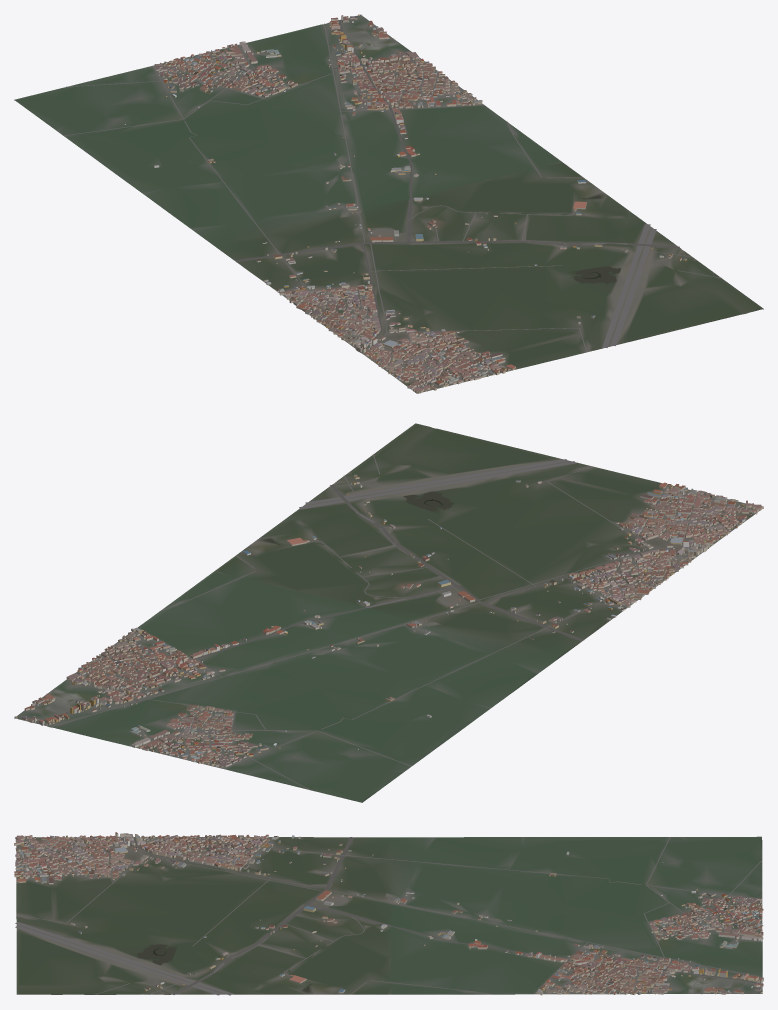
3 renders of one model, top to bottom at view 1: azimuth 30°, elevation 25°; view 2: azimuth 150°, elevation 25°; view 3: azimuth 270°, elevation 25°, orthographic. The views are drawn at different scales.
Parts seen in each view (by area): view 1: ground, buildings, roads; view 2: ground, buildings, roads; view 3: ground, buildings, roads, water.
Part boxes in pixels (left/top/right/bottom): ground: left=14, top=15, right=763, bottom=393; buildings: left=124, top=14, right=686, bottom=393; roads: left=64, top=17, right=721, bottom=390; ground: left=14, top=423, right=763, bottom=802; buildings: left=14, top=474, right=763, bottom=768; roads: left=26, top=454, right=741, bottom=789; ground: left=16, top=836, right=762, bottom=994; buildings: left=14, top=832, right=763, bottom=995; roads: left=15, top=837, right=762, bottom=995; water: left=137, top=944, right=311, bottom=991.
Size of the model in its own units: 1416 by 31.83 by 2819.
